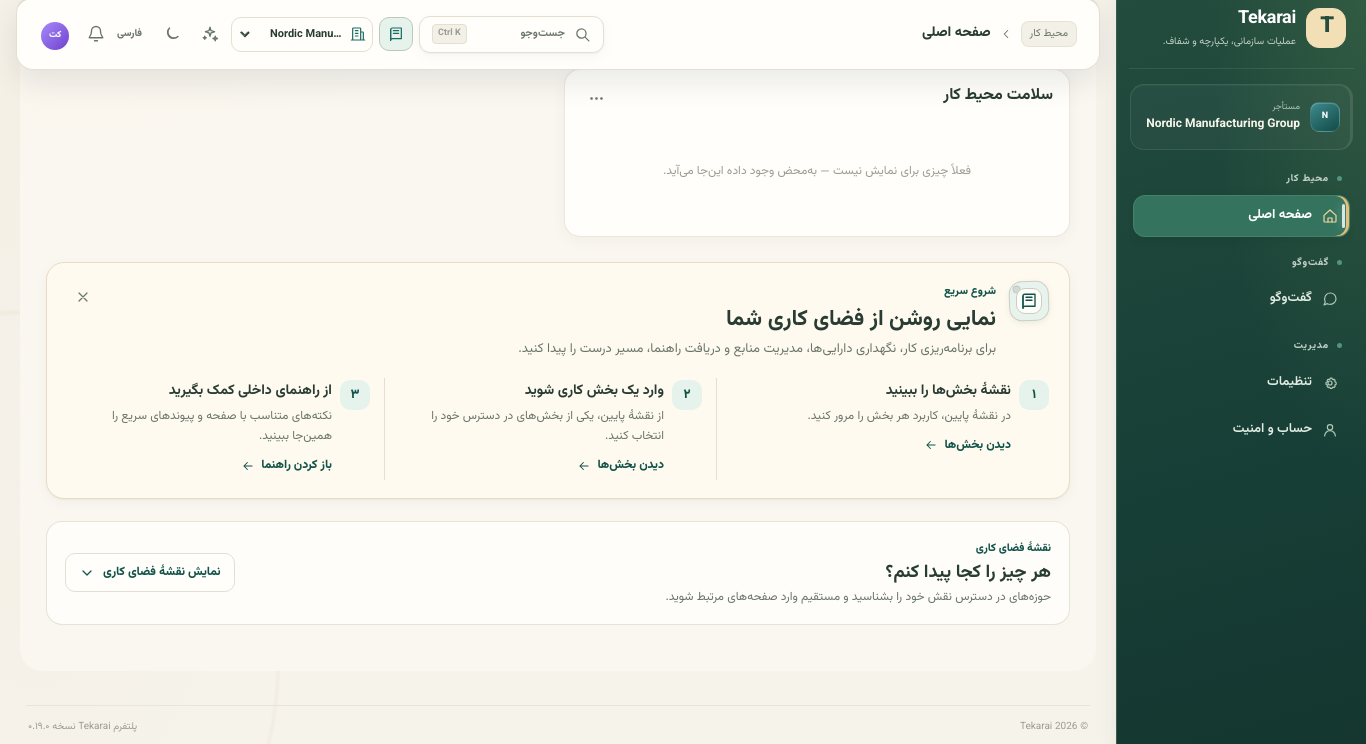
dashboard first-visit experience › keeps inaccessible areas hidden when the map is opened for a limited user
(page scrolled)
Expected: the list item "وارد یک بخش کاری شوید" is shown, left=399, top=378, right=717, bottom=480
Expected: the text "از نقشهٔ پایین، یکی از بخش‌های در دسترس خود را انتخاب کنید." is shown, left=413, top=406, right=664, bottom=446
Click the button "دیدن بخش‌ها" below "وارد یک بخش کاری شوید".
click(621, 466)  # box left=578, top=453, right=664, bottom=478
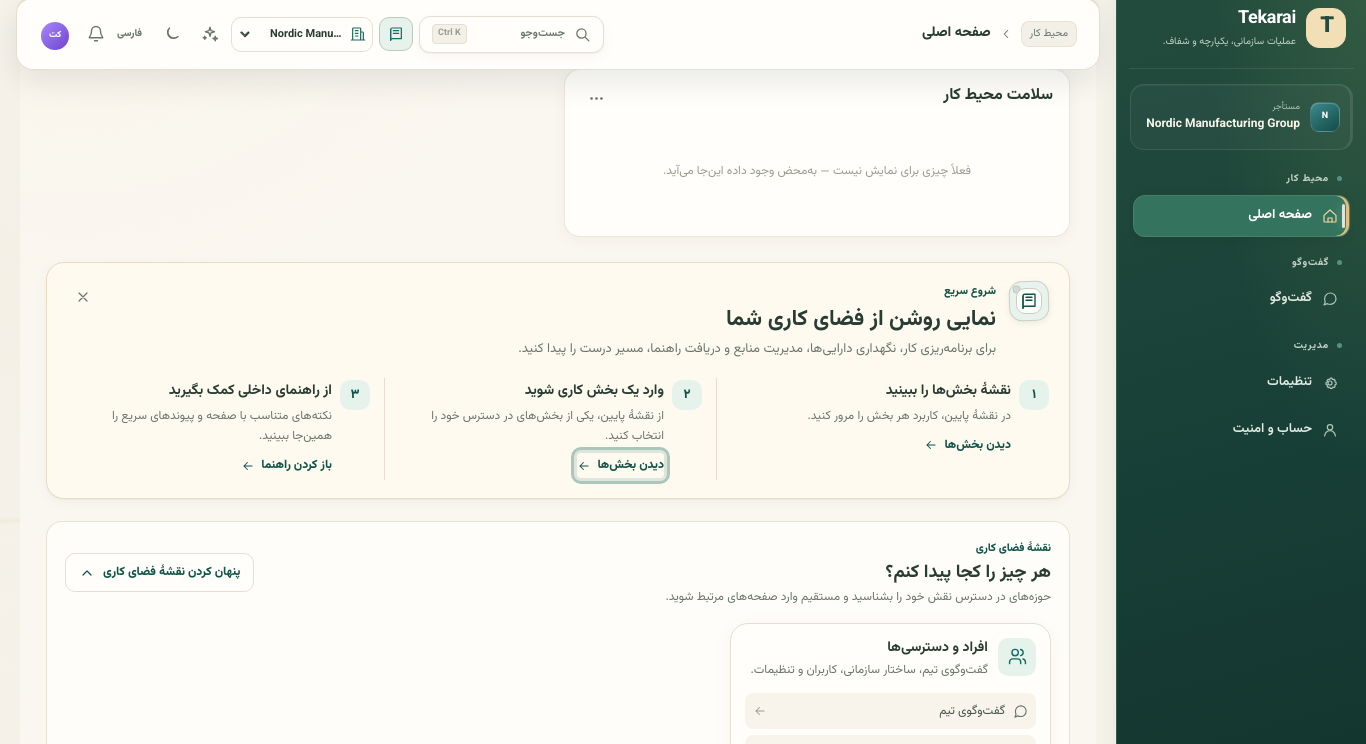
Result: the button "پنهان کردن نقشهٔ فضای کاری" is expanded
Click the button "پنهان کردن نقشهٔ فضای کاری".
click(160, 573)  # box left=65, top=553, right=254, bottom=592
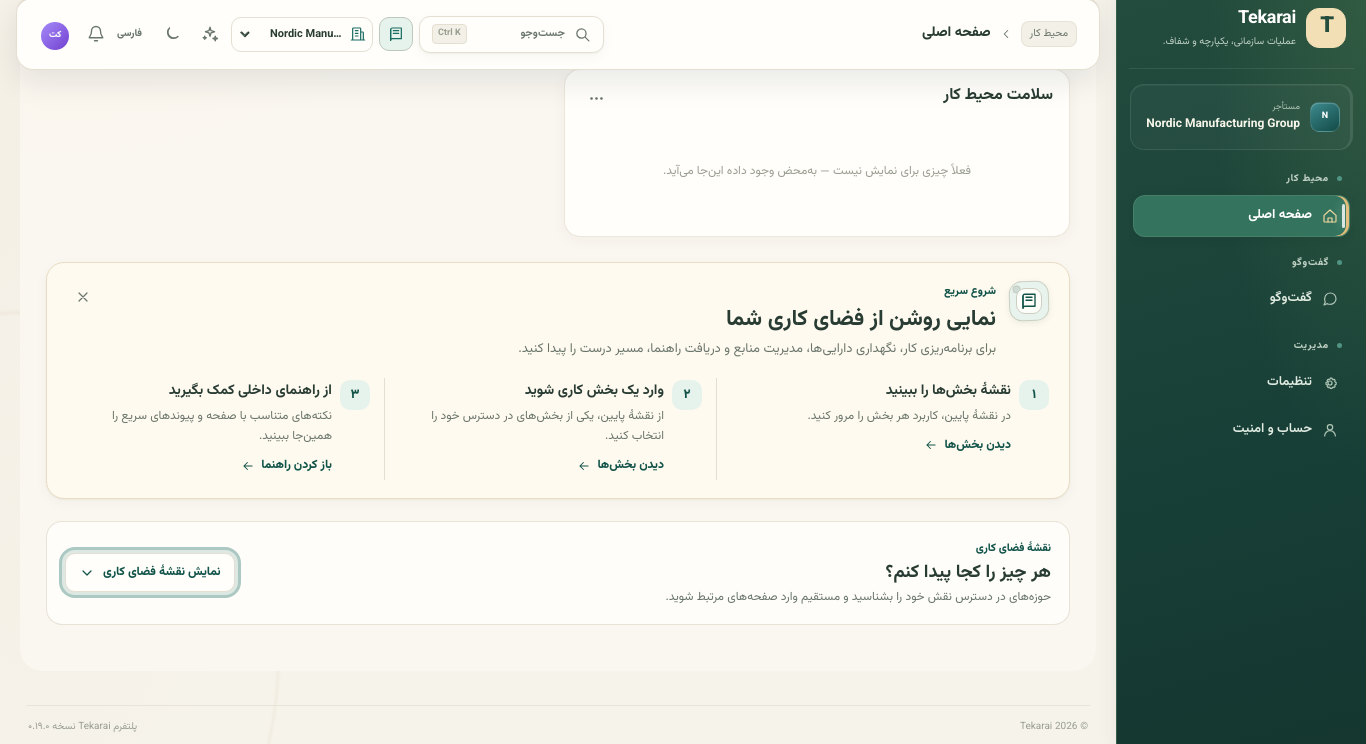
Result: the button "نمایش نقشهٔ فضای کاری" is collapsed at left=65, top=553, right=235, bottom=592
